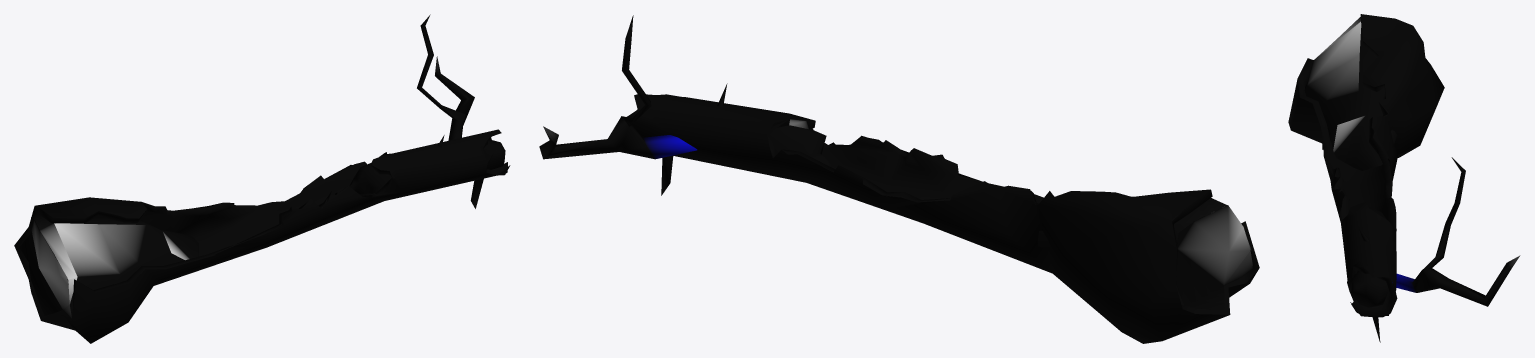
The model's file is BeecthTreeDeadBark_LOD3.fbx.
3 views of the same model, side by side, from view 1: azimuth 30°, elevation 25°; view 2: azimuth 150°, elevation 25°; view 3: azimuth 270°, elevation 25° (orthographic). The views are drawn at different scales.
Parts seen in each view (by area): view 1: BeechTrunkDead_Core_LOD3, BeechTrunkDead_LOD3, BeechTrunkDead_Cut_LOD3; view 2: BeechTrunkDead_LOD3, BeechTrunkDead_Core_LOD3, BeechTrunkDead_Cut_LOD3; view 3: BeechTrunkDead_LOD3, BeechTrunkDead_Core_LOD3.
Boxes of the visible parts, <box> form: BeechTrunkDead_Core_LOD3: <box>14,136,507,327</box>; BeechTrunkDead_LOD3: <box>14,14,510,343</box>; BeechTrunkDead_Cut_LOD3: <box>19,218,71,318</box>; BeechTrunkDead_LOD3: <box>539,15,1258,343</box>; BeechTrunkDead_Core_LOD3: <box>637,94,1259,314</box>; BeechTrunkDead_Cut_LOD3: <box>1176,205,1252,309</box>; BeechTrunkDead_LOD3: <box>1288,14,1520,342</box>; BeechTrunkDead_Core_LOD3: <box>1297,15,1397,317</box>.
Size of the model in its own units: 10.41 by 3.81 by 4.04.
